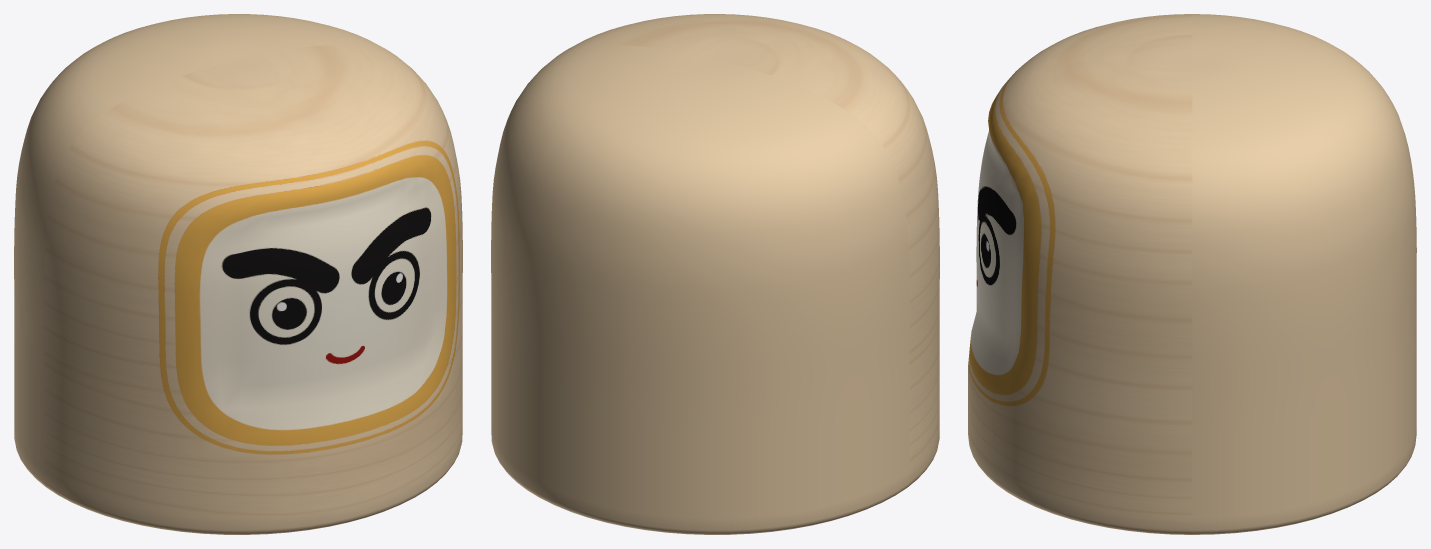
The model's file is akadaru_square.fbx.
3 renders of one model, left to right at view 1: azimuth 30°, elevation 25°; view 2: azimuth 150°, elevation 25°; view 3: azimuth 270°, elevation 25°, orthographic.
Parts seen in each view (by area): view 1: akadaru_square; view 2: akadaru_square; view 3: akadaru_square.
Boxes of the visible parts, x1,y1,x2,y2 form: akadaru_square: [14, 14, 462, 534]; akadaru_square: [491, 14, 939, 534]; akadaru_square: [968, 14, 1416, 534].
Bounding box in the file's own units: 1 × 0.9425 × 1.
Materials: 1 (1 with a texture image).
